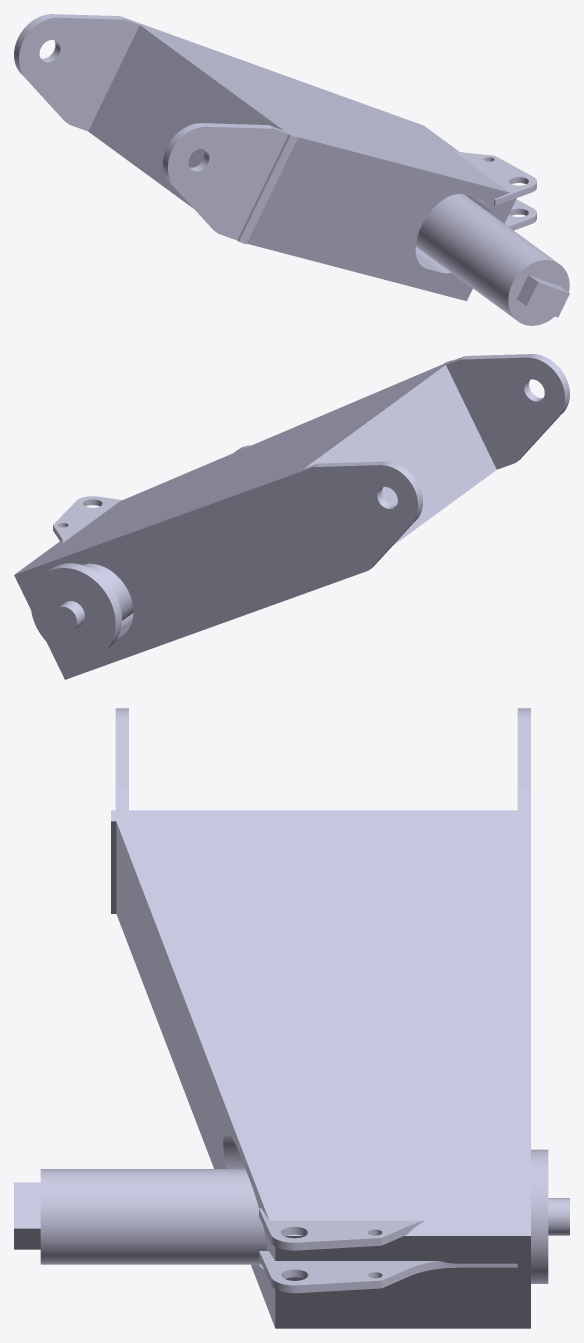
The model's file is BEAM_JACK_RIGHT_FRONT.obj.
3 views of the same model, one above another, from view 1: azimuth 30°, elevation 25°; view 2: azimuth 150°, elevation 25°; view 3: azimuth 270°, elevation 25° (orthographic). The views are drawn at different scales.
Visible parts, largest first — view 1: HSC_1500HLX_BEAM_JACK_000_1-1500HLX_BEAM_JACK009 (Meshed); view 2: HSC_1500HLX_BEAM_JACK_000_1-1500HLX_BEAM_JACK009 (Meshed); view 3: HSC_1500HLX_BEAM_JACK_000_1-1500HLX_BEAM_JACK009 (Meshed).
Part boxes in pixels (x1,y1,x2,y2): HSC_1500HLX_BEAM_JACK_000_1-1500HLX_BEAM_JACK009 (Meshed): (14, 14, 569, 325); HSC_1500HLX_BEAM_JACK_000_1-1500HLX_BEAM_JACK009 (Meshed): (14, 354, 569, 679); HSC_1500HLX_BEAM_JACK_000_1-1500HLX_BEAM_JACK009 (Meshed): (14, 708, 569, 1328).
Bounding box in the file's own units: 1256 × 822 × 1035.
